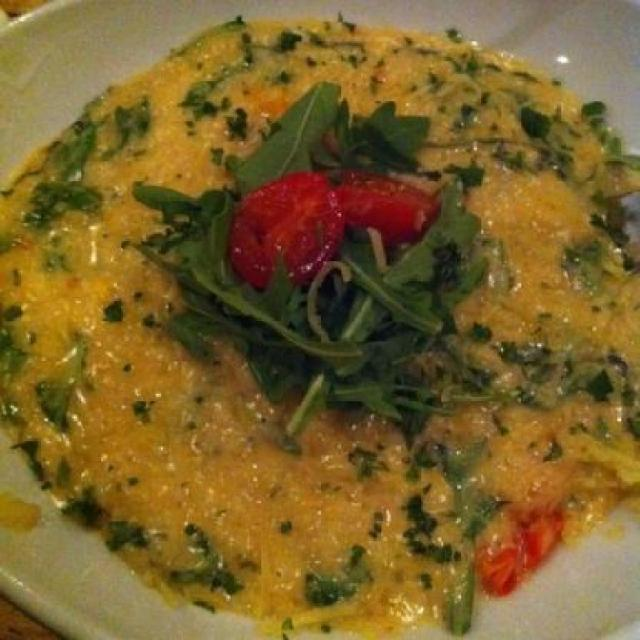Risotto: (19, 28, 632, 632)
